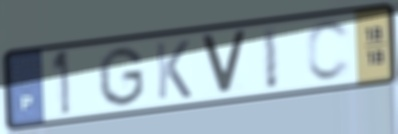1: (49, 48, 73, 119)
C: (305, 18, 354, 84)
G: (95, 45, 147, 109)
I: (260, 23, 281, 93)
K: (152, 37, 194, 102)
V: (197, 29, 251, 97)
